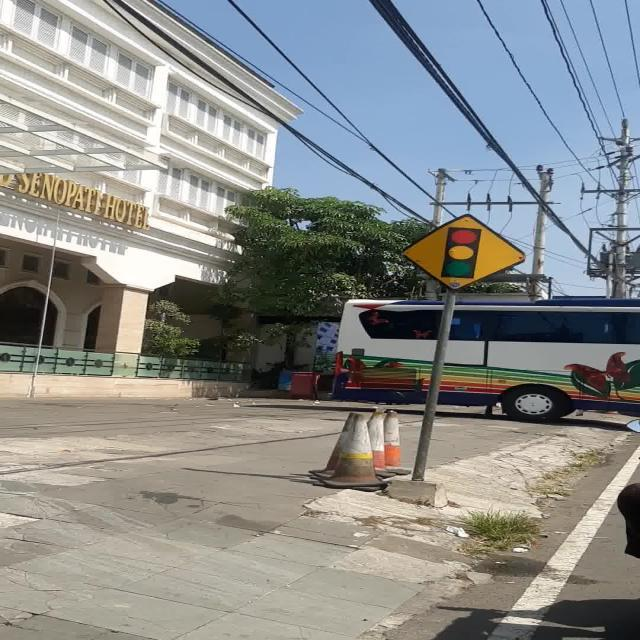Lampu Lalu Lintas: (403, 213, 526, 290)
